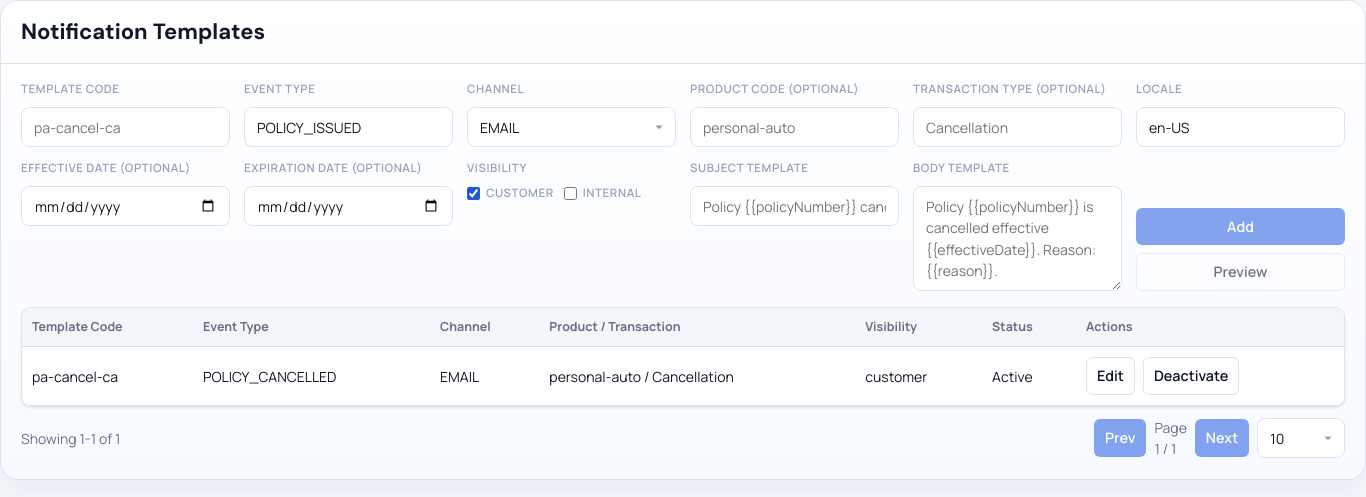
NotificationTemplatesPage › loads a template into the form for editing
Click the button "Edit": (1110, 376) [1086,358,1135,395]
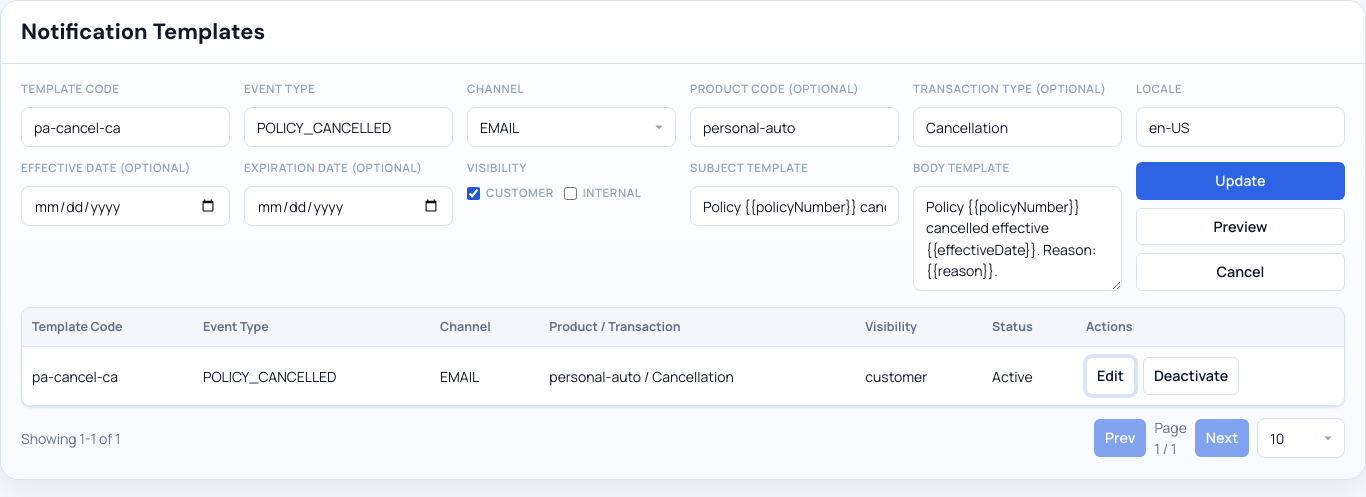
expect the 1st field showing "pa-cancel-ca" is shown: met, box [21,107,230,147]
expect the button "Update" is shown: met, box [1136,162,1345,200]
